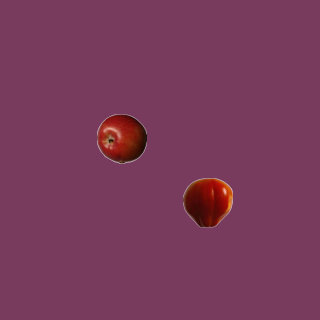Apple Braeburn: (96, 113, 146, 163)
Tomato 1: (182, 177, 232, 227)
